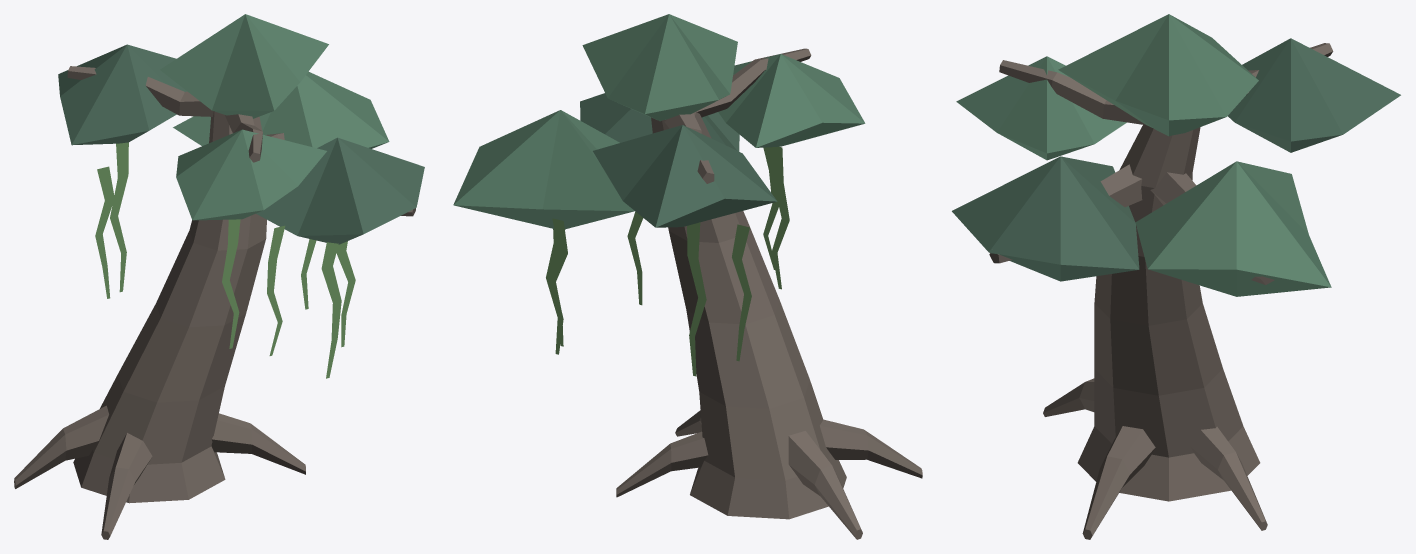
Rendered from outdoor_tree_willow.glb.
3 views of the same model, side by side, from view 1: azimuth 30°, elevation 25°; view 2: azimuth 150°, elevation 25°; view 3: azimuth 270°, elevation 25° (orthographic). The views are drawn at different scales.
Visible parts, largest first — view 1: Outdoor_Tree_Willow; view 2: Outdoor_Tree_Willow; view 3: Outdoor_Tree_Willow.
Boxes of the visible parts, box(x1,y1,x2,y2) form: Outdoor_Tree_Willow: box(14, 14, 424, 539); Outdoor_Tree_Willow: box(453, 14, 922, 539); Outdoor_Tree_Willow: box(952, 14, 1400, 539).
Size of the model in its own units: 7.19 by 8.34 by 6.65.
